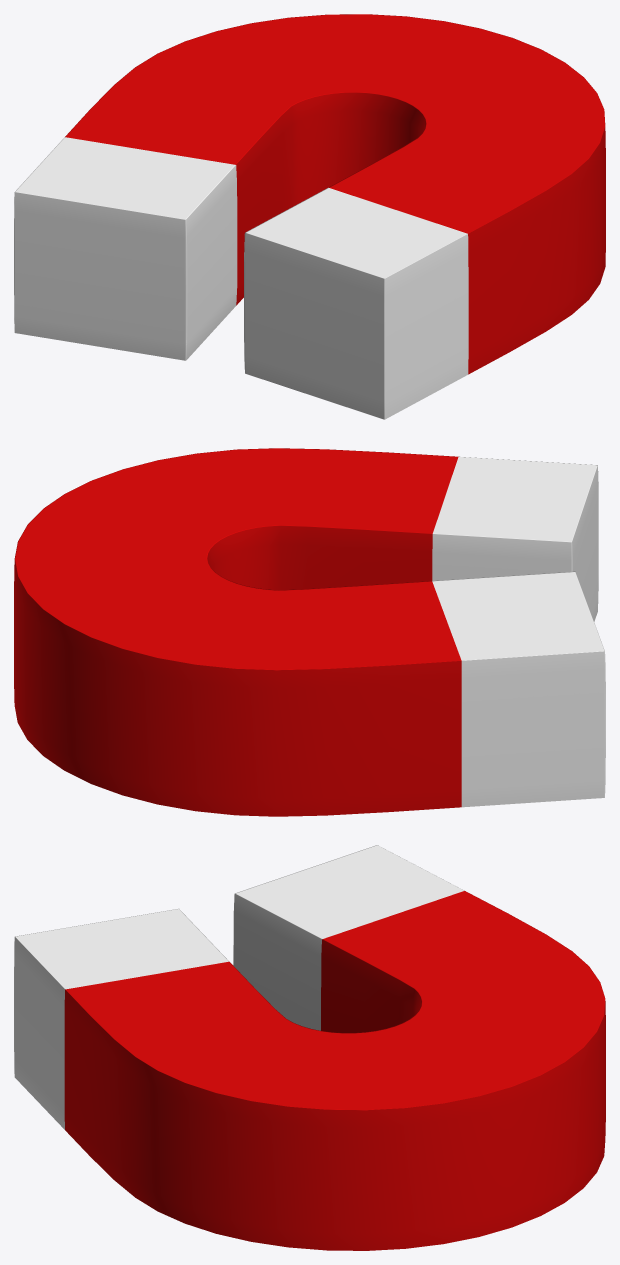
Rendered from Magnet.obj.
The picture shows the model from 3 angles, top to bottom: view 1: azimuth 30°, elevation 25°; view 2: azimuth 150°, elevation 25°; view 3: azimuth 270°, elevation 25°; orthographic projection. The views are drawn at different scales.
Visible parts, largest first — view 1: polySurface1; view 2: polySurface1; view 3: polySurface1.
Part boxes in pixels (x1,y1,x2,y2): polySurface1: [14, 14, 605, 419]; polySurface1: [14, 448, 605, 816]; polySurface1: [14, 845, 605, 1250].
Size of the model in its own units: 6.37 by 1.57 by 5.99.
